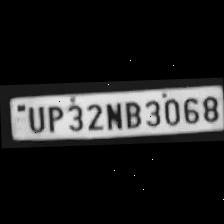0: (160, 93, 180, 123)
2: (82, 100, 104, 130)
3: (142, 94, 162, 127), (62, 100, 82, 131)
6: (180, 92, 200, 122)
8: (199, 91, 221, 122)
B: (120, 96, 142, 128)
N: (102, 97, 122, 128)
P: (42, 100, 64, 132)
U: (23, 102, 45, 132)
